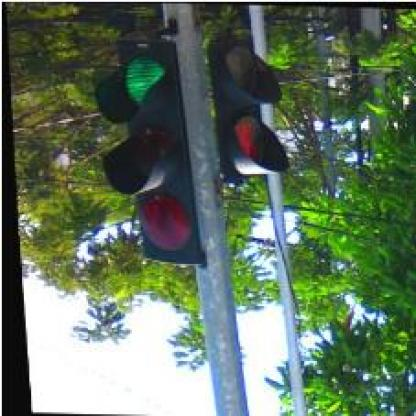green: (85, 36, 201, 268)
